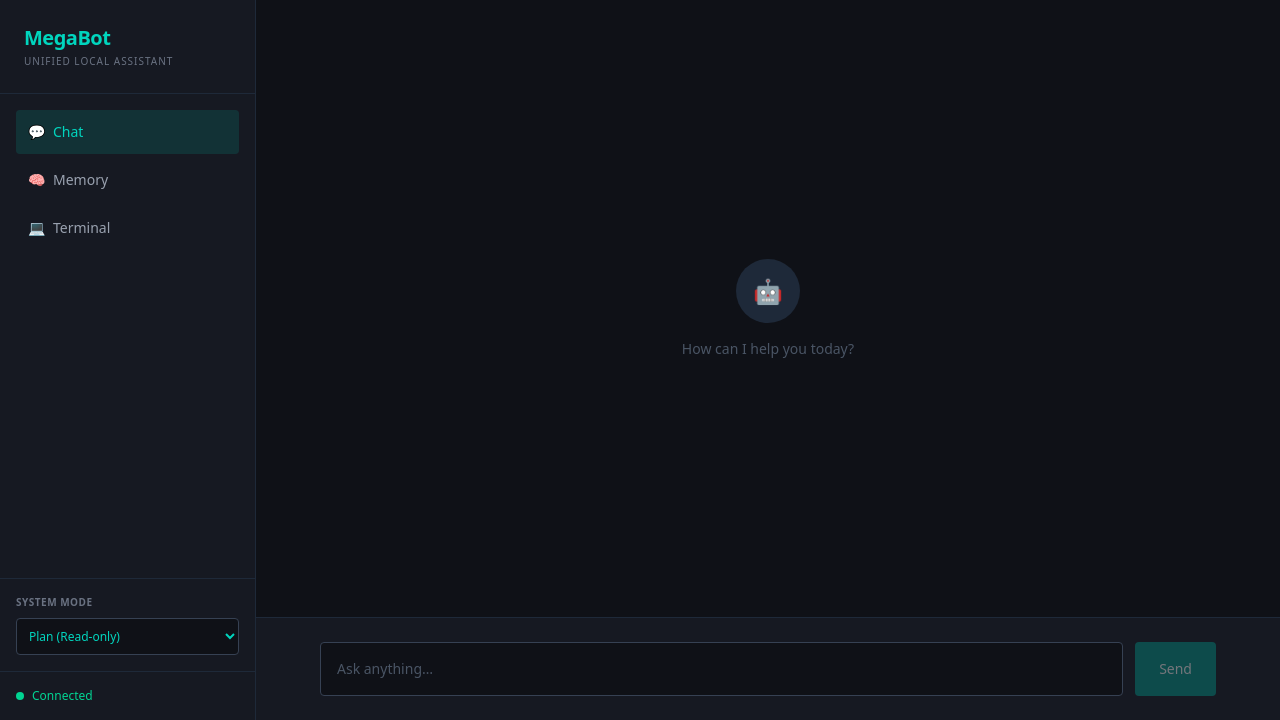
Test: App Component › sends message on Enter key
The image size is (1280, 720).
Step 1. Type "enter message" into the field with placeholder "Ask anything…" → (722, 669), box [320,642,1123,696]
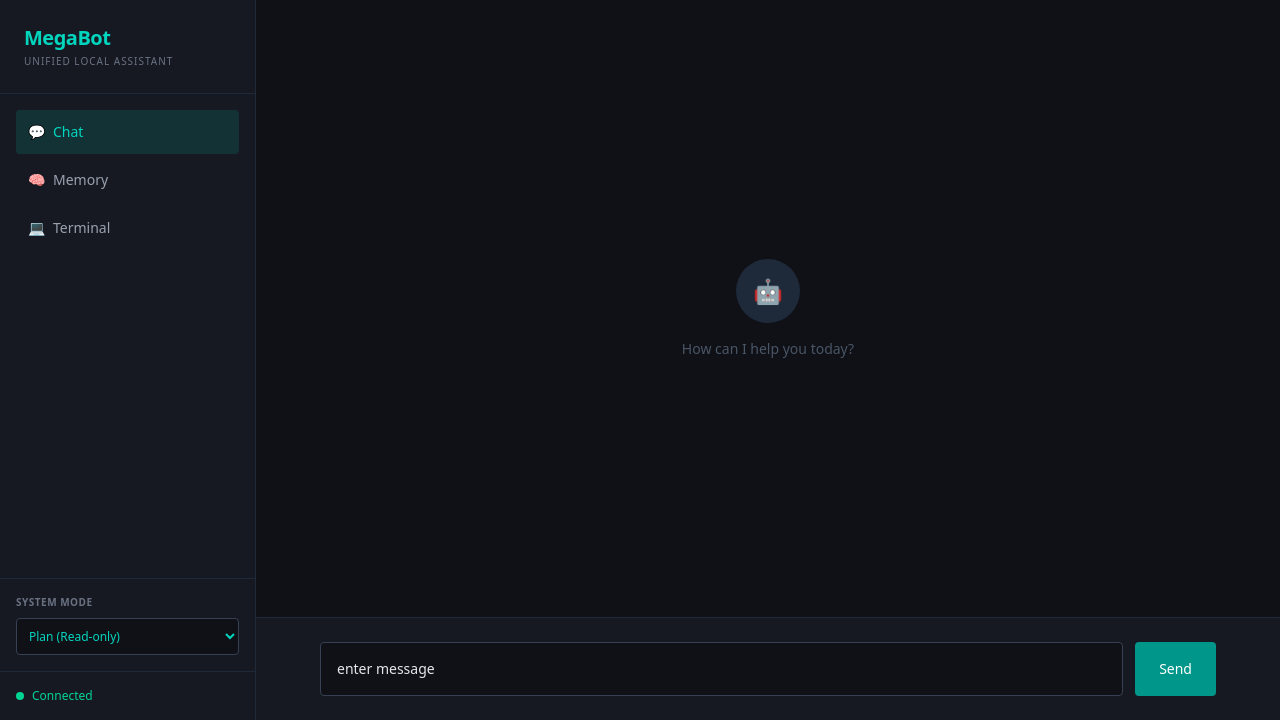
Step 2. Press Enter in the field with placeholder "Ask anything…", box [320,642,1123,696]
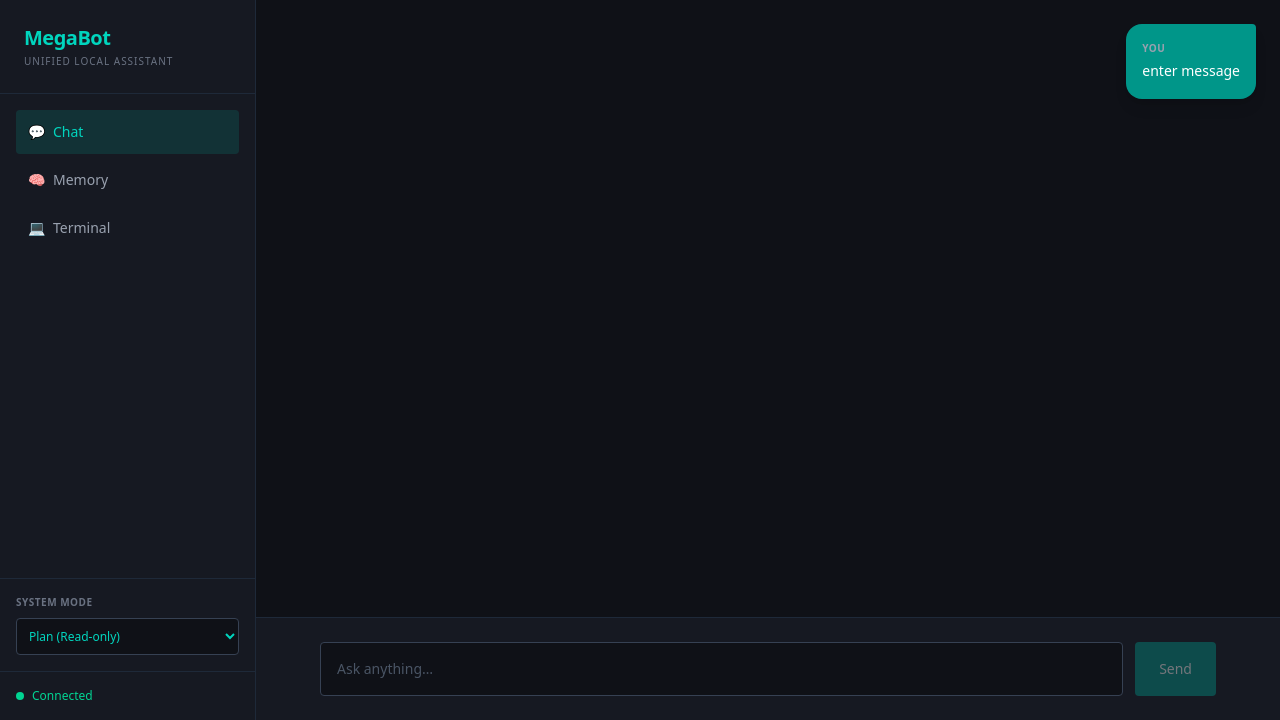
Expected: the text "enter message" is shown, [1142,60,1240,83]
